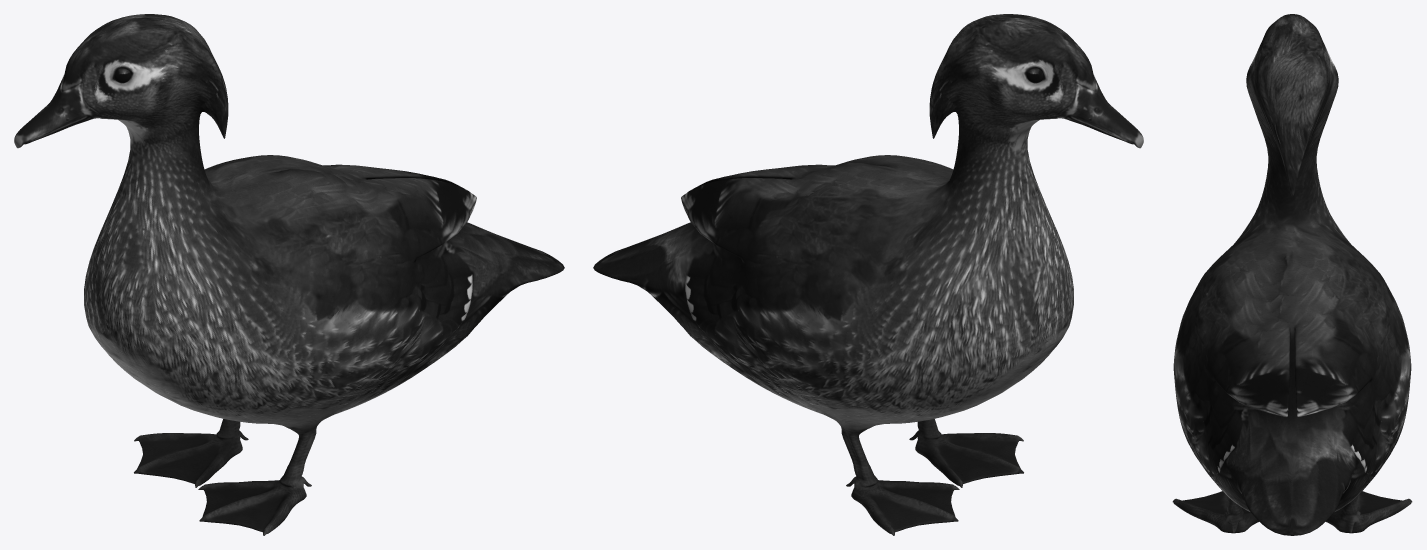
File: Bird.obj
3 renders of one model, left to right at view 1: azimuth 30°, elevation 25°; view 2: azimuth 150°, elevation 25°; view 3: azimuth 270°, elevation 25°, orthographic. The views are drawn at different scales.
Visible parts, largest first — view 1: object_1; view 2: object_1; view 3: object_1.
Part boxes in pixels (box(x1,y1,x2,y2)): object_1: box(14, 14, 564, 535); object_1: box(593, 14, 1143, 535); object_1: box(1172, 14, 1412, 535).
Size of the model in its own units: 0.3289 by 0.283 by 0.1365.
Materials: 1 (1 with a texture image).
